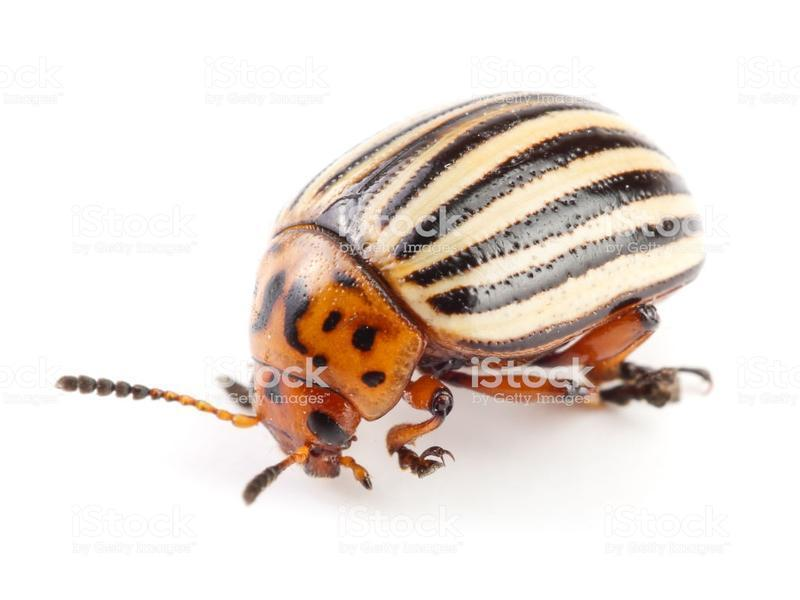hrosc: (229, 84, 729, 503)
